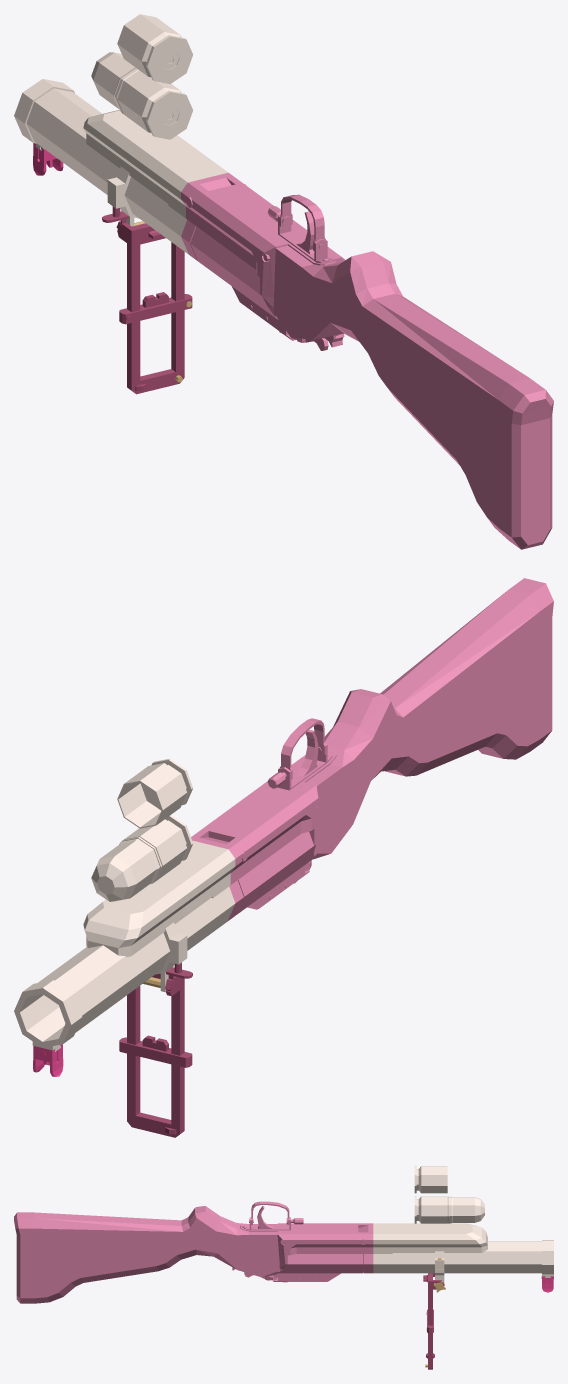
Rendered from Launcher_M79.obj.
3 views of the same model, one above another, from view 1: azimuth 30°, elevation 25°; view 2: azimuth 150°, elevation 25°; view 3: azimuth 270°, elevation 25° (orthographic). The views are drawn at different scales.
Parts seen in each view (by area): view 1: Body, Panel, Grip; view 2: Body, Panel, Grip, Accent; view 3: Body, Panel, Grip.
Boxes of the visible parts, x1,y1,x2,y2 form: Body: (181, 172, 553, 549); Panel: (14, 14, 227, 254); Grip: (102, 206, 192, 394); Body: (191, 578, 553, 920); Panel: (14, 758, 235, 1051); Grip: (119, 962, 192, 1137); Accent: (33, 1044, 63, 1076); Body: (14, 1201, 373, 1303); Panel: (373, 1166, 553, 1283); Grip: (423, 1273, 444, 1369).
Size of the model in its own units: 0.3267 by 1.41 by 3.5.
